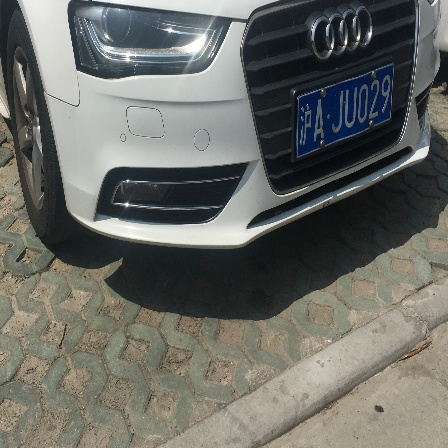plate: (294, 71, 402, 148)
